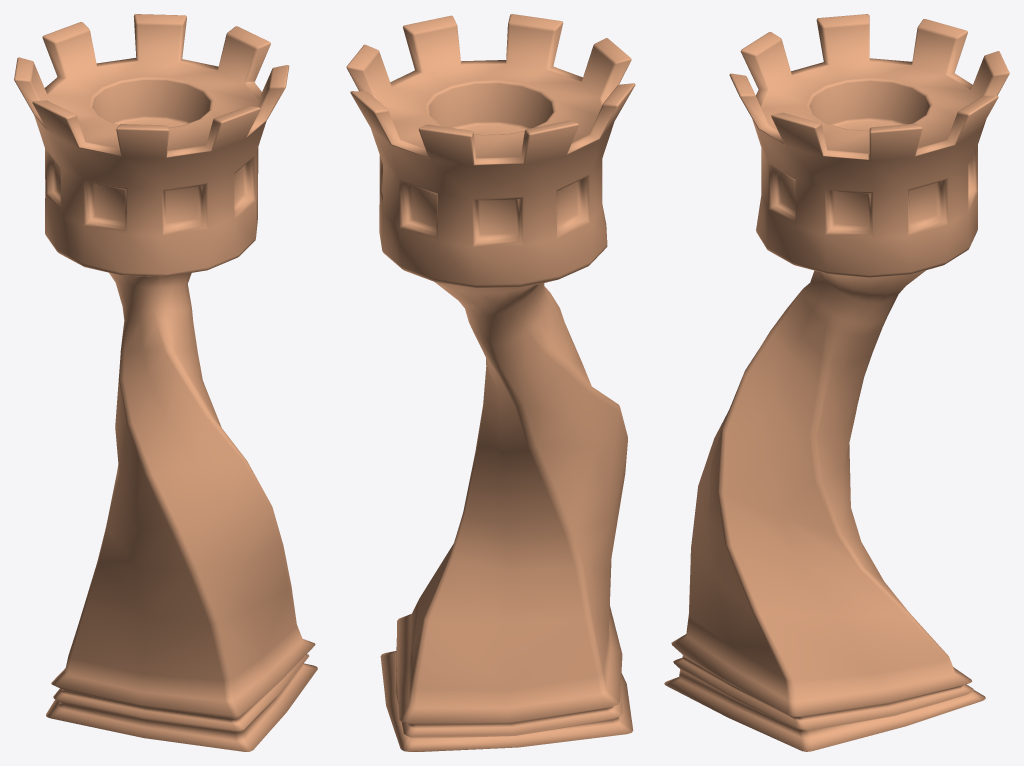
Rendered from Torre.fbx.
3 renders of one model, left to right at view 1: azimuth 30°, elevation 25°; view 2: azimuth 150°, elevation 25°; view 3: azimuth 270°, elevation 25°, orthographic. The views are drawn at different scales.
Parts seen in each view (by area): view 1: Torre.002; view 2: Torre.002; view 3: Torre.002.
Part boxes in pixels (left/top/right/bottom): Torre.002: left=14, top=14, right=317, bottom=751; Torre.002: left=346, top=14, right=635, bottom=751; Torre.002: left=664, top=14, right=1009, bottom=751.
Size of the model in its own units: 98.52 by 226 by 115.
